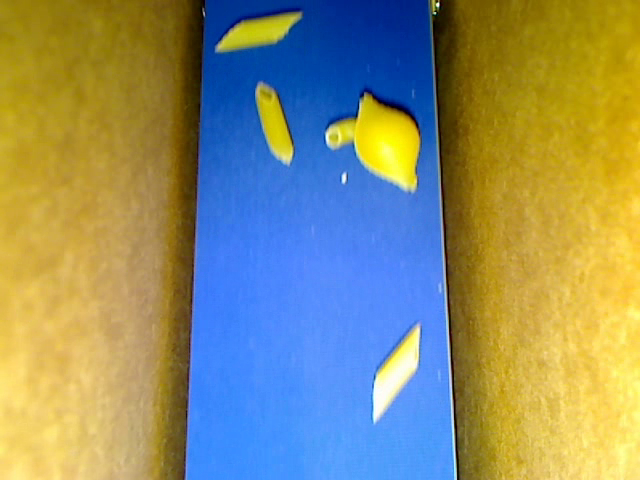elbow: (325, 117, 362, 149)
penne: (371, 321, 420, 423), (254, 81, 293, 165), (215, 13, 300, 50)
shell: (355, 92, 420, 190)
